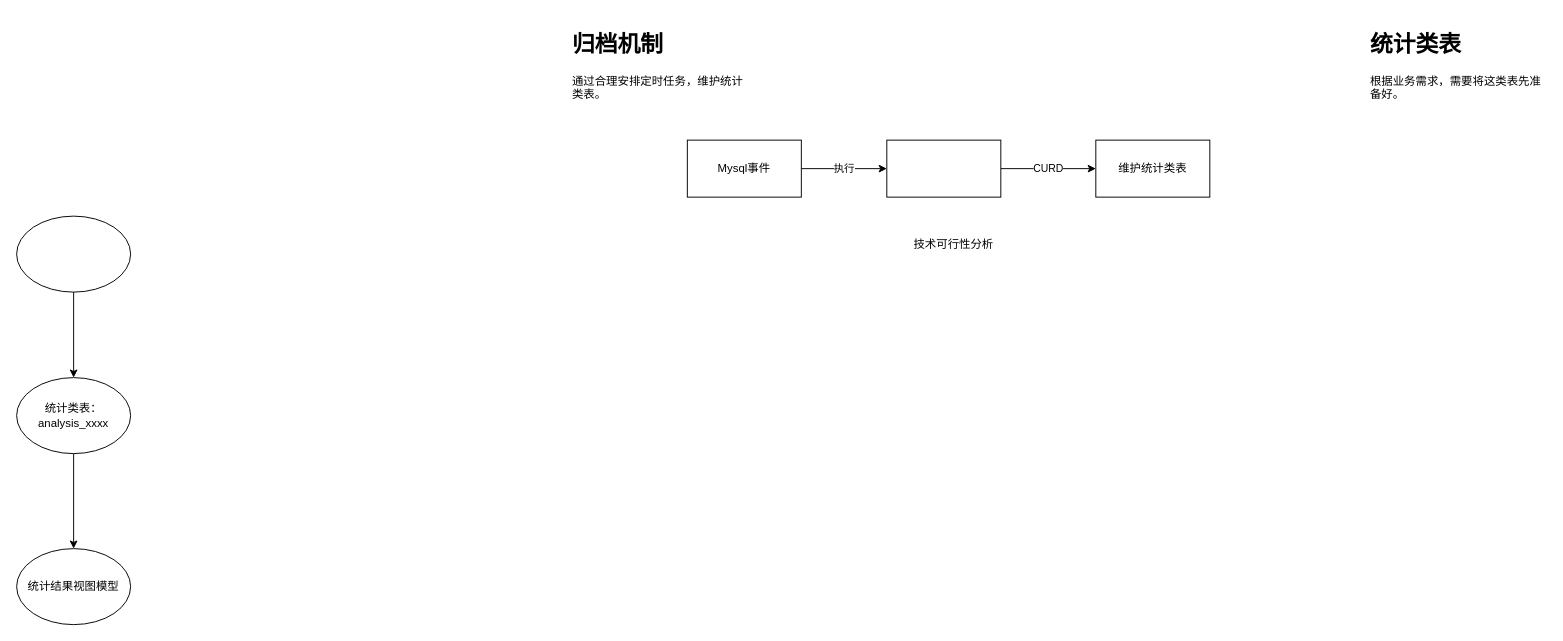
The diagram is 1563 pixels wide and 641 high, and some of its shapes have lost their labels. Each missing label, with the centre of its shape:
"Mysql存储过程" goes at point (943, 168).
"归档机制" goes at point (73, 253).
